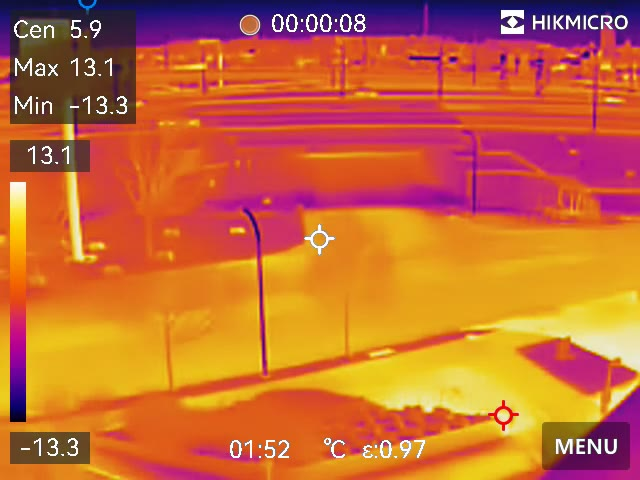vehicle: (152, 114, 205, 131), (349, 85, 384, 100), (598, 91, 627, 106)
